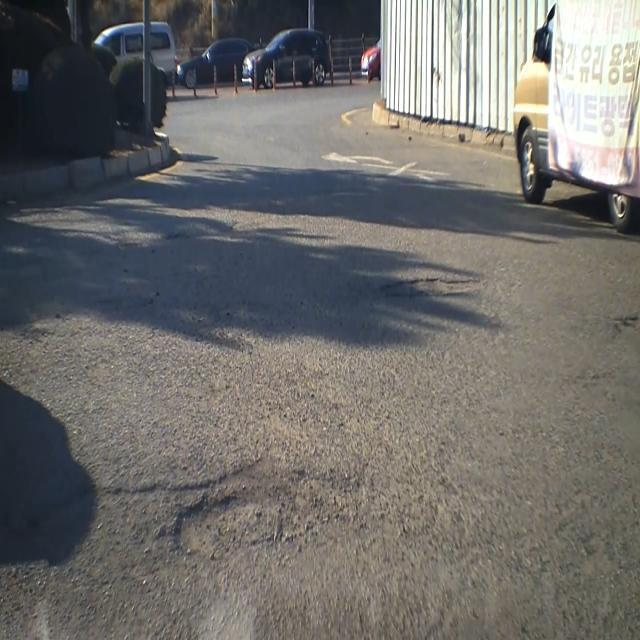Pothole: (27, 454, 377, 589), (377, 274, 490, 300)
